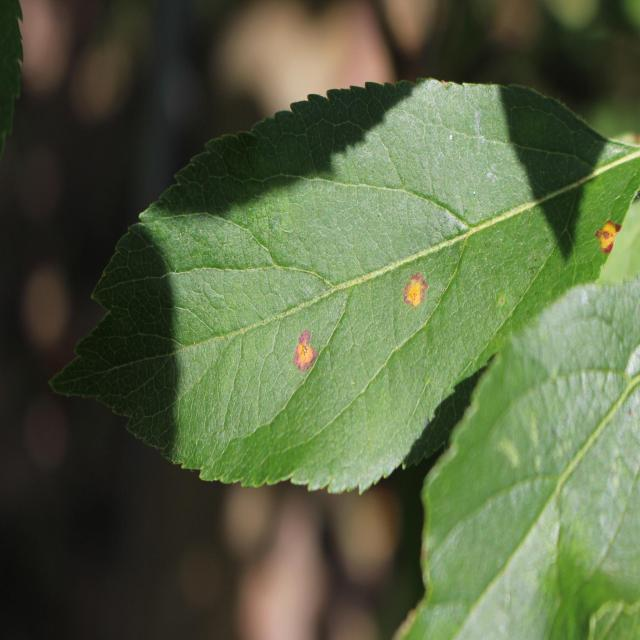Rust: (285, 313, 320, 379), (590, 209, 623, 253), (398, 268, 430, 313)
